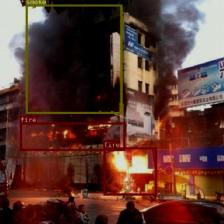fire: (19, 122, 125, 151), (104, 147, 156, 195)
smoke: (25, 5, 122, 114)
